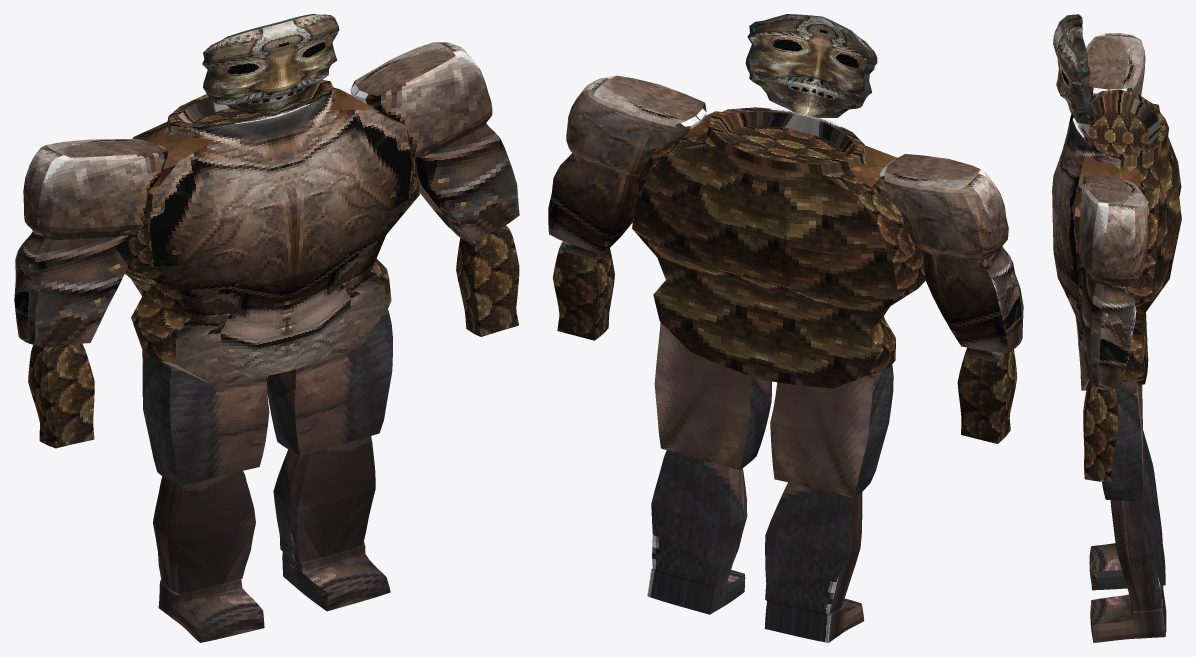
File: wineknight.glb
3 renders of one model, left to right at view 1: azimuth 30°, elevation 25°; view 2: azimuth 150°, elevation 25°; view 3: azimuth 270°, elevation 25°, orthographic. The views are drawn at different scales.
Parts seen in each view (by area): view 1: wineknight-col; view 2: wineknight-col; view 3: wineknight-col.
Boxes of the visible parts, x1=… form: wineknight-col: x1=14, y1=14, x2=519, y2=642; wineknight-col: x1=548, y1=14, x2=1023, y2=642; wineknight-col: x1=1052, y1=14, x2=1181, y2=642.
Bounding box in the file's own units: 0.5084 × 0.6089 × 0.1274.
Materials: 2 (2 with a texture image).
